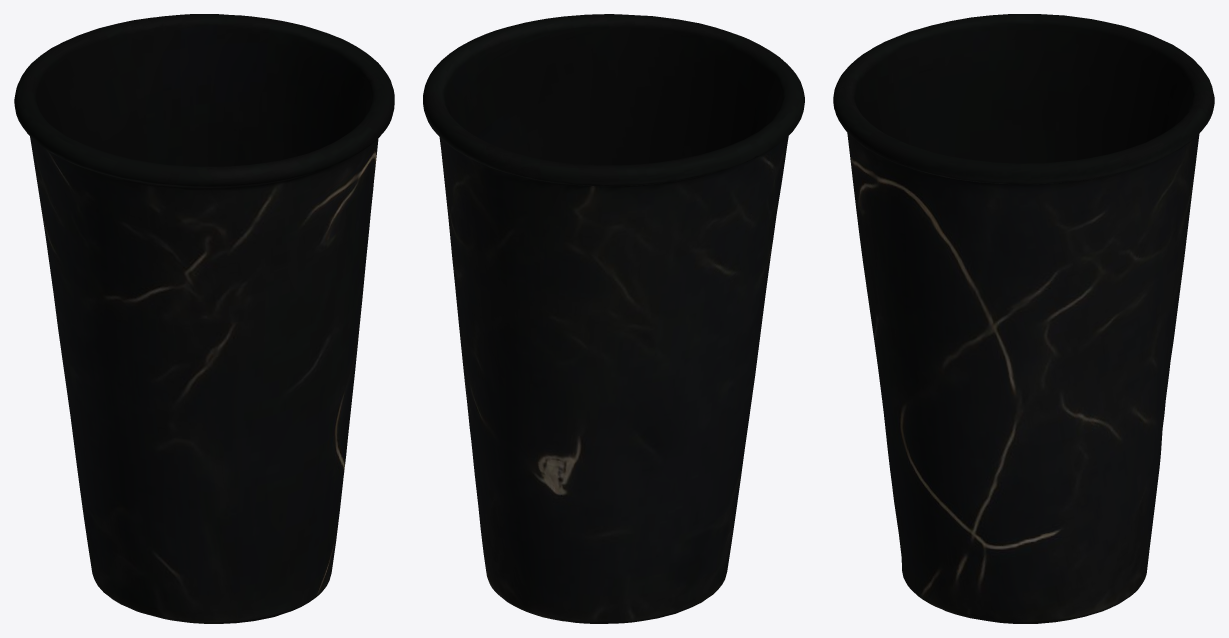
The model's file is cup.glb.
The picture shows the model from 3 angles, left to right: view 1: azimuth 30°, elevation 25°; view 2: azimuth 150°, elevation 25°; view 3: azimuth 270°, elevation 25°; orthographic projection.
Visible parts, largest first — view 1: model; view 2: model; view 3: model.
Boxes of the visible parts, <box> form: model: <box>14,14,394,623</box>; model: <box>423,14,804,623</box>; model: <box>833,14,1214,623</box>.
Bounding box in the file's own units: 1.34 × 1.9 × 1.36.
1 material, 1 textured.
